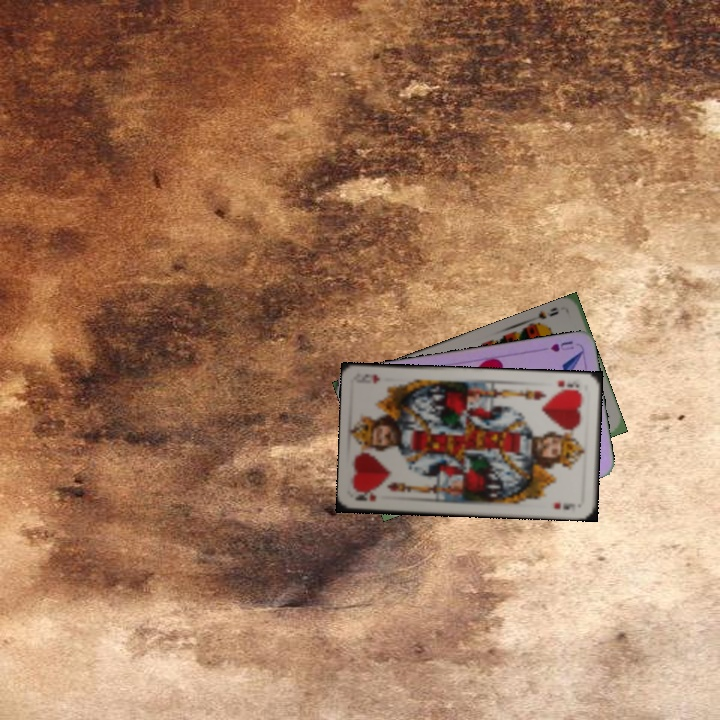HK: (552, 377, 582, 394), (352, 488, 379, 504)
HU: (546, 337, 576, 354)
S9: (527, 303, 561, 331)
